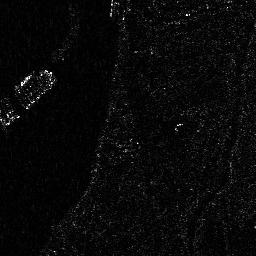ship: (15, 66, 57, 110)
